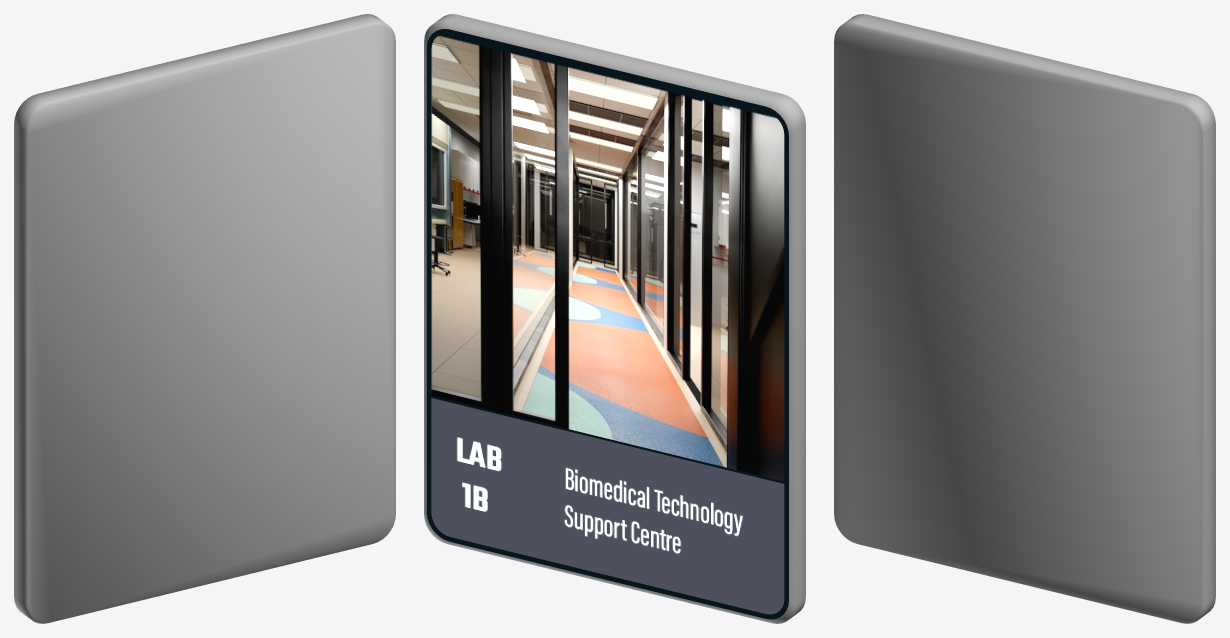
File: Lab1B_Icon.glb
The picture shows the model from 3 angles, left to right: view 1: azimuth 30°, elevation 25°; view 2: azimuth 150°, elevation 25°; view 3: azimuth 330°, elevation 25°; orthographic projection.
Parts seen in each view (by area): view 1: Lab_1B_Back; view 2: Lab_1B_Front, Lab_1B_Back; view 3: Lab_1B_Back.
Boxes of the visible parts, x1=… form: Lab_1B_Back: x1=14, y1=14, x2=395, y2=623; Lab_1B_Front: x1=427, y1=29, x2=788, y2=619; Lab_1B_Back: x1=424, y1=14, x2=805, y2=623; Lab_1B_Back: x1=834, y1=14, x2=1215, y2=623.
Size of the model in its own units: 2 by 2.69 by 0.132.
2 materials, 1 textured.
